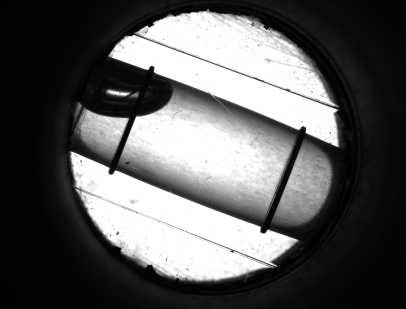line: (261, 148, 302, 215), (109, 122, 137, 155)
